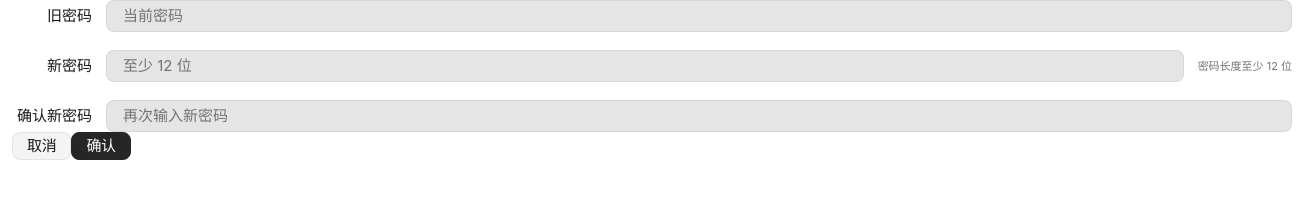
Test: ChangePasswordModal › 旧密码为空时本地拦截，不发请求
This screenshot has width=1304, height=212.
Type "NewStrongPass1" into the password field with test id "new-password".
click(645, 66); type("NewStrongPass1")  # box [121,54,1169,78]
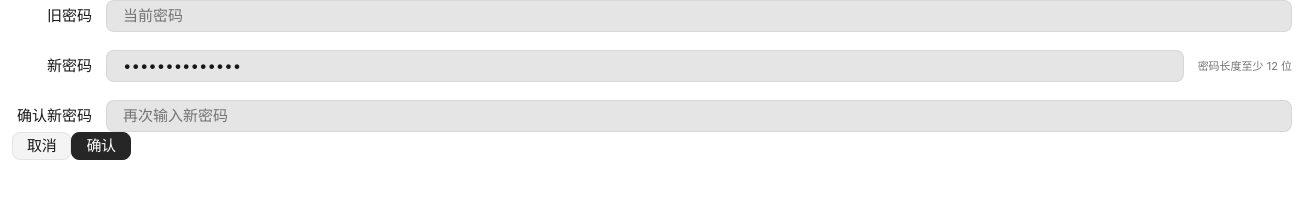
Type "NewStrongPass1" into the password field with test id "confirm-password".
click(699, 116); type("NewStrongPass1")  # box [121,104,1277,128]
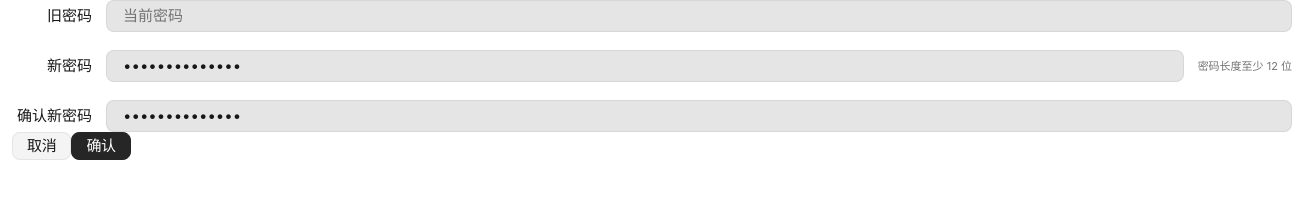
Click the button with test id "submit-password".
click(101, 146)  # box [71,132,131,160]
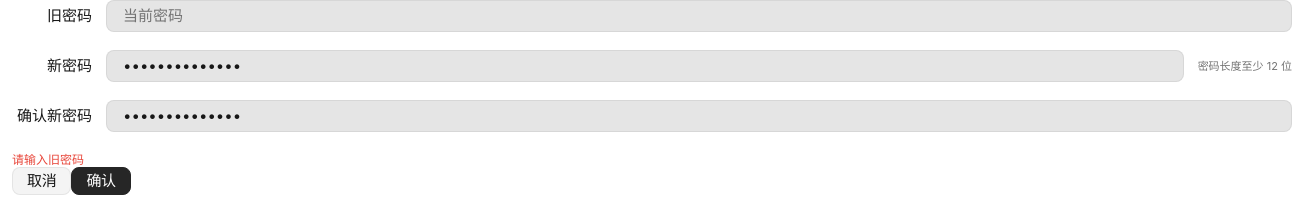
Now the text "请输入旧密码" is shown, box [12,152,84,167]
